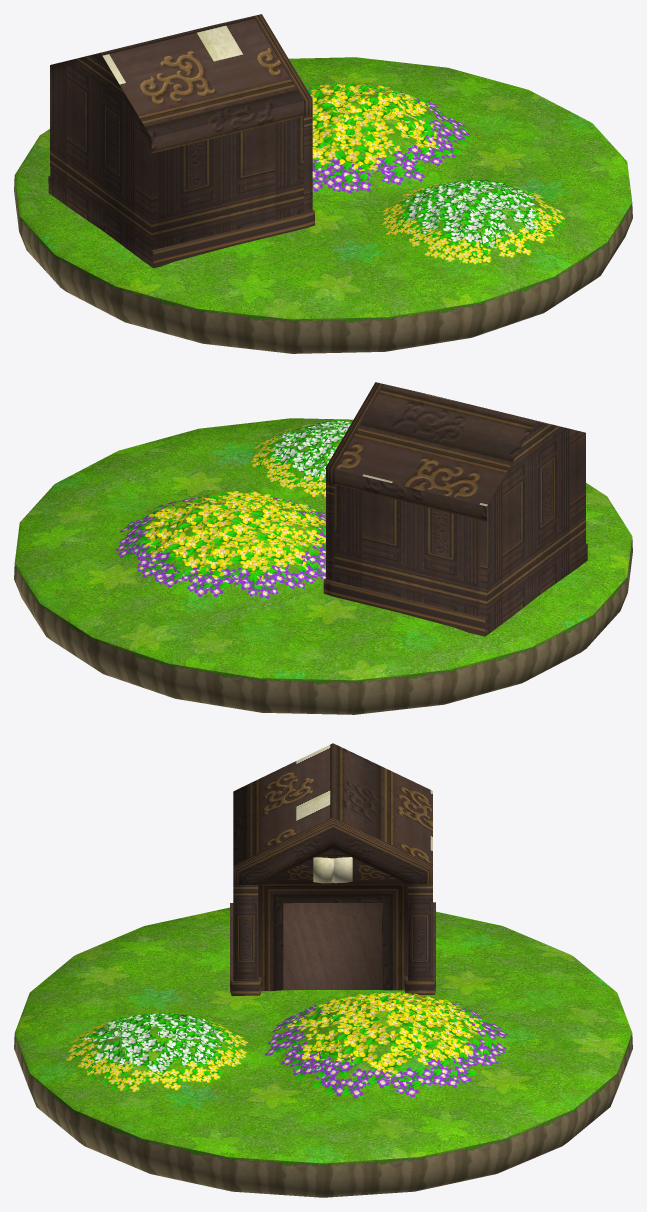
The model's file is AstroLibraryRoom.fbx.
3 renders of one model, top to bottom at view 1: azimuth 30°, elevation 25°; view 2: azimuth 150°, elevation 25°; view 3: azimuth 270°, elevation 25°, orthographic.
Visible parts, largest first — view 1: mesh-2.006, mesh-2.002, mesh-2.004, mesh-2.003, mesh-2.005, mesh-2.001, mesh-2.007; view 2: mesh-2.006, mesh-2.002, mesh-2.004, mesh-2.003, mesh-2.005, mesh-2.007, mesh-2.001; view 3: mesh-2.006, mesh-2.003, mesh-2.004, mesh-2.005, mesh-2.008, mesh-2.007, mesh-2.002, mesh-2.001.
Part boxes in pixels (x1,y1,x2,y2): mesh-2.006: (14,57,632,319); mesh-2.002: (48,53,314,268); mesh-2.004: (14,177,632,353); mesh-2.003: (59,14,312,153); mesh-2.005: (307,82,565,264); mesh-2.001: (399,179,541,247); mesh-2.007: (306,85,470,193); mesh-2.006: (14,418,632,680); mesh-2.002: (323,421,587,636); mesh-2.004: (14,538,632,714); mesh-2.003: (326,382,579,521); mesh-2.005: (139,422,325,580); mesh-2.007: (116,494,325,600); mesh-2.001: (269,420,352,482); mesh-2.006: (15,907,632,1163); mesh-2.003: (233,743,432,990); mesh-2.004: (14,1033,632,1197); mesh-2.005: (66,992,489,1091); mesh-2.008: (230,902,435,990); mesh-2.007: (265,995,507,1098); mesh-2.002: (230,884,435,995); mesh-2.001: (83,1012,234,1076).
Size of the model in its own units: 208438 by 92196 by 208438.
9 materials, 9 textured.
